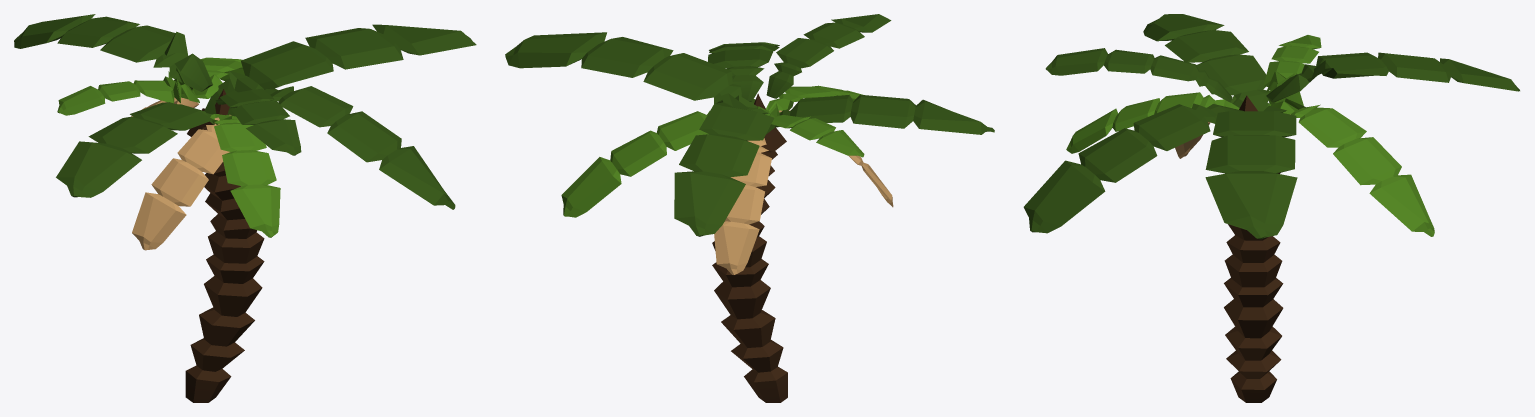
File: palm tree.fbx
3 views of the same model, side by side, from view 1: azimuth 30°, elevation 25°; view 2: azimuth 150°, elevation 25°; view 3: azimuth 270°, elevation 25° (orthographic). The views are drawn at different scales.
Parts seen in each view (by area): view 1: Cylinder.001; view 2: Cylinder.001; view 3: Cylinder.001.
Boxes of the visible parts, left/top/right/bottom form: Cylinder.001: left=14, top=14, right=476, bottom=402; Cylinder.001: left=505, top=14, right=994, bottom=402; Cylinder.001: left=1023, top=14, right=1519, bottom=402.
Size of the model in its own units: 604 by 429 by 564.
